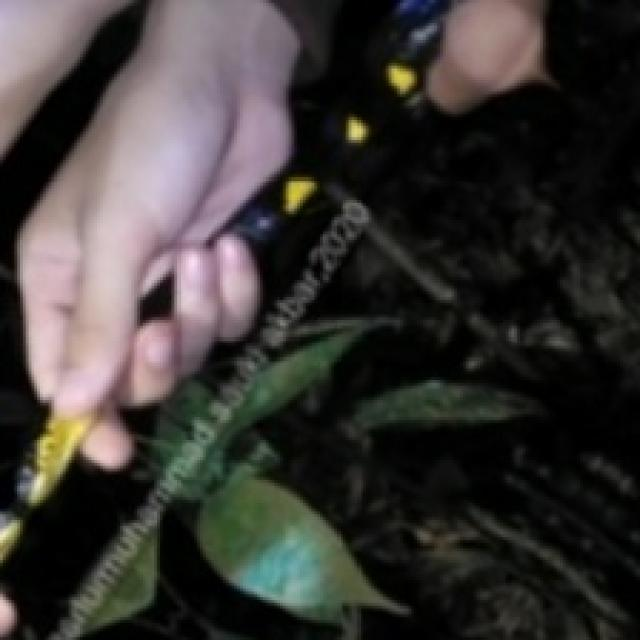mangrove cat snake: (230, 0, 451, 249), (0, 418, 80, 564), (140, 276, 174, 321)
